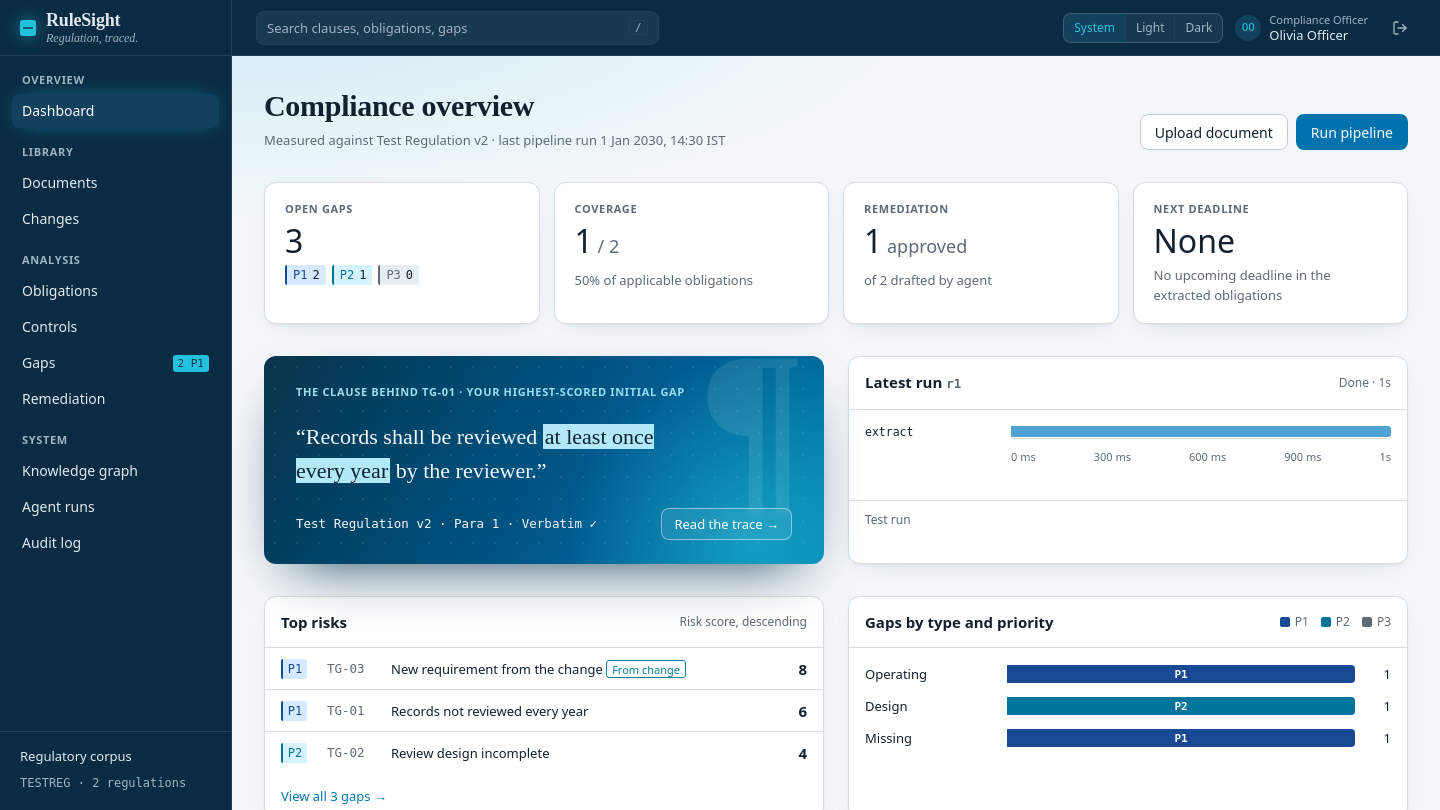
sign-in › signs out and returns to the sign-in page
This screenshot has width=1440, height=810.
Expected: the heading "Compliance overview" is shown, [264,89,534,122]
Click the button named "Sign out".
click(1400, 28)  # box [1384,12,1416,44]
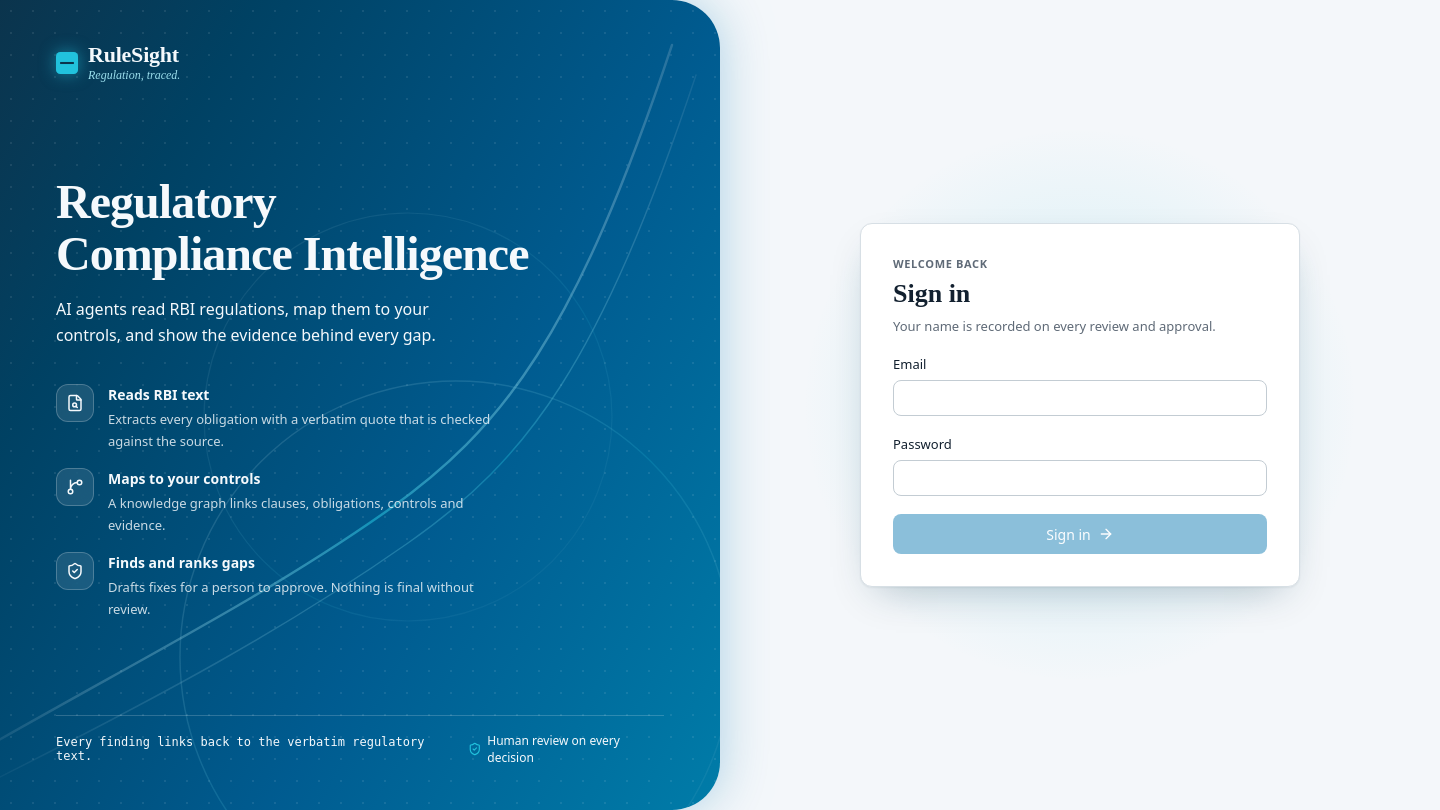
Expected: the heading "Sign in" is shown, [893,279,970,308]
